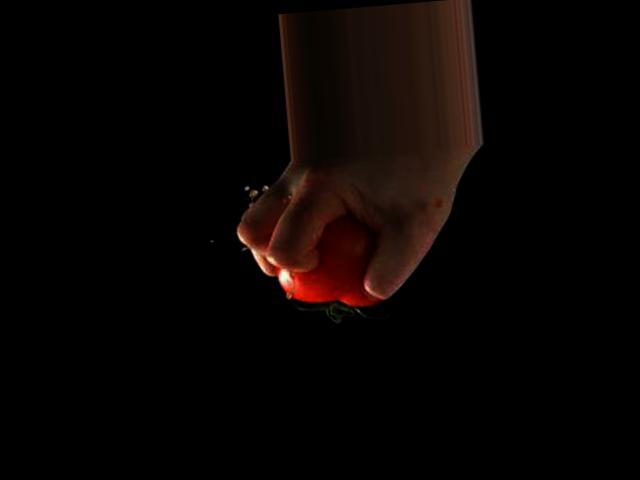tomato: (273, 213, 385, 313)
